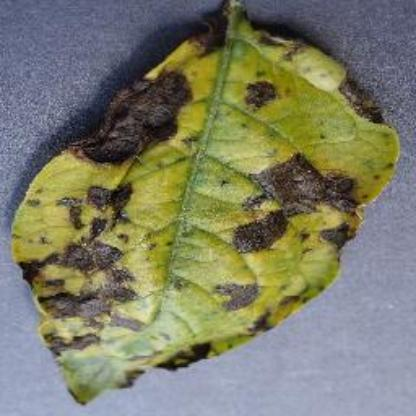Early-Blight: (11, 0, 401, 408)
